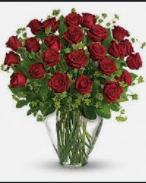RedRose: (45, 71, 71, 92), (65, 43, 87, 67), (88, 40, 107, 64), (27, 61, 46, 79), (41, 48, 61, 65), (74, 73, 91, 92)
